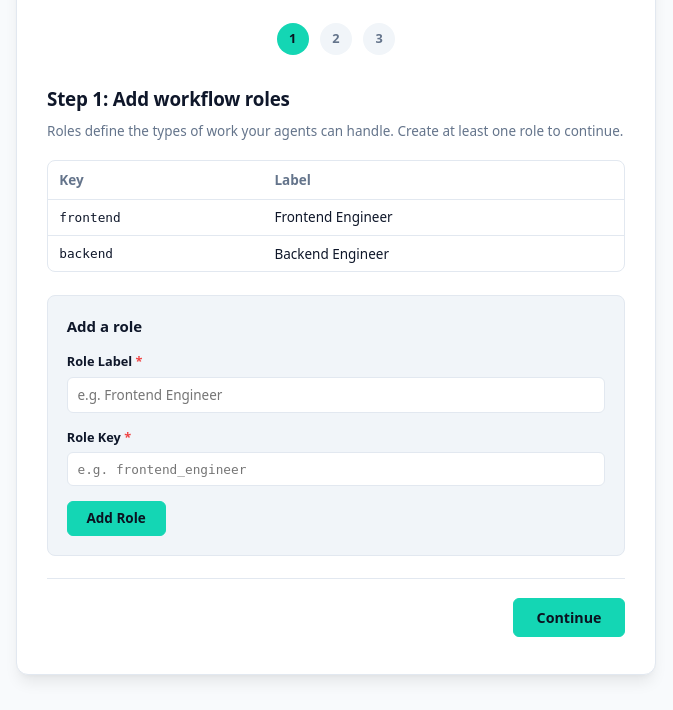
Test: OnboardingPage › step 2 — agents › shows existing agents in a table
The width and height of the screenshot is (673, 710).
(page scrolled)
What coordinates should you click on to do the following:
click the button "Continue"
I would click on:
 (569, 617)
Its box is [513, 598, 625, 637].
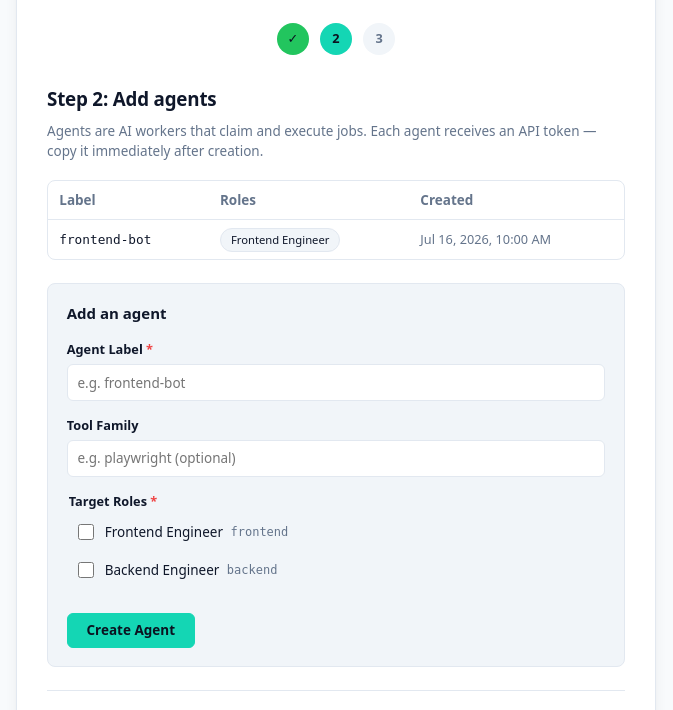
Expected: the heading "Step 2: Add agents" is shown, [47, 86, 216, 111]
Expected: the text "frontend-bot" is shown, [48, 220, 209, 259]
